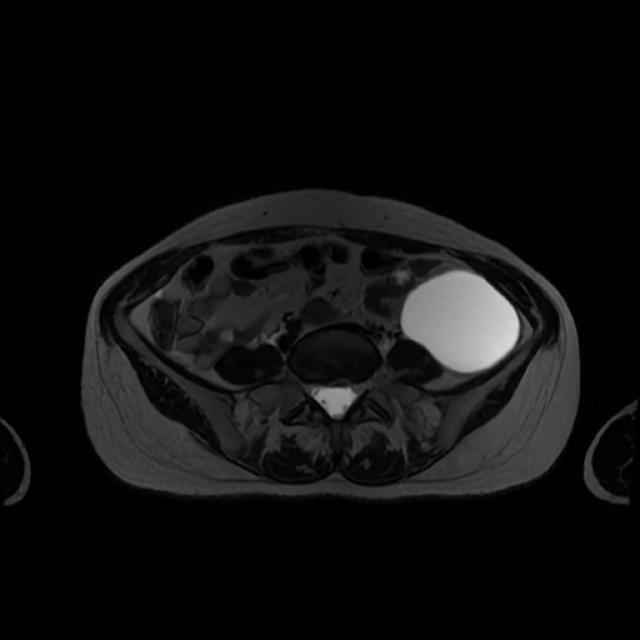sol: (405, 271, 523, 371)
